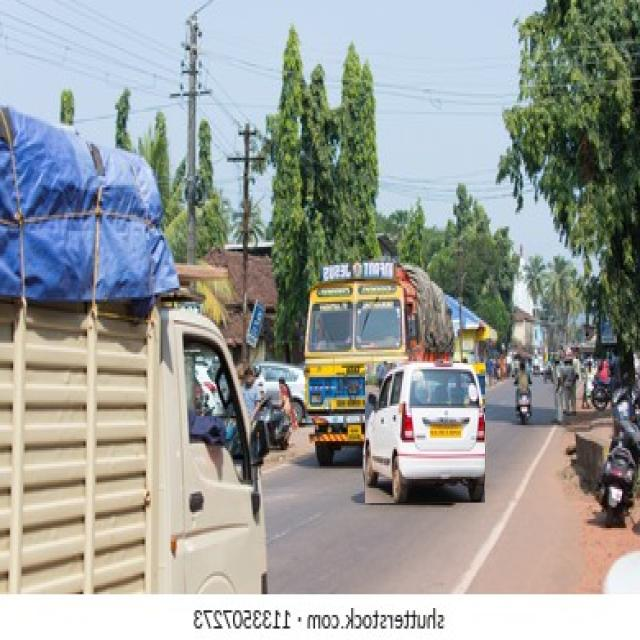car: (366, 364, 485, 502)
truck: (305, 261, 453, 464), (365, 364, 485, 503)
